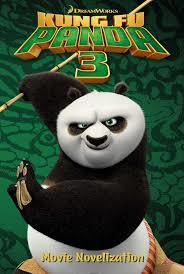KungfuPanda: (22, 64, 161, 270)
